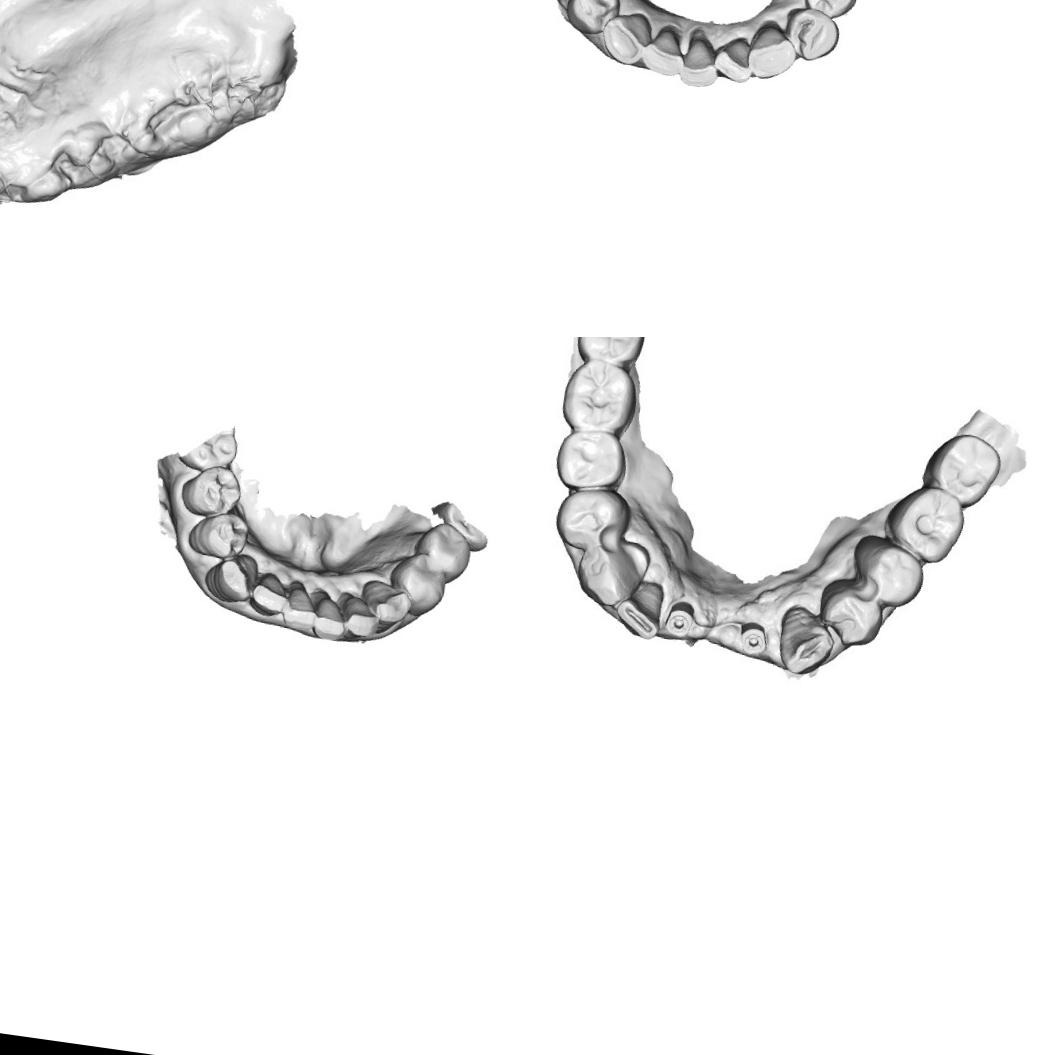canine: (574, 538, 650, 610), (771, 605, 842, 680), (598, 6, 653, 74), (201, 548, 262, 608), (745, 20, 800, 84), (358, 575, 416, 627)
implant_plus: (732, 617, 774, 664), (664, 603, 699, 640)
incisor: (636, 17, 693, 82), (616, 577, 670, 638), (676, 27, 725, 92), (710, 27, 757, 84), (334, 590, 384, 642), (247, 569, 291, 620), (282, 579, 322, 634), (312, 587, 351, 642)
molar: (876, 480, 966, 568), (912, 426, 1003, 513), (559, 354, 639, 440), (568, 337, 650, 371)
premolar: (846, 528, 928, 606), (550, 482, 632, 556), (812, 576, 884, 649), (555, 426, 626, 496), (409, 518, 476, 587), (384, 550, 450, 620), (176, 460, 246, 522), (781, 5, 843, 66), (185, 506, 251, 562), (564, 0, 620, 37), (796, 0, 857, 21)
